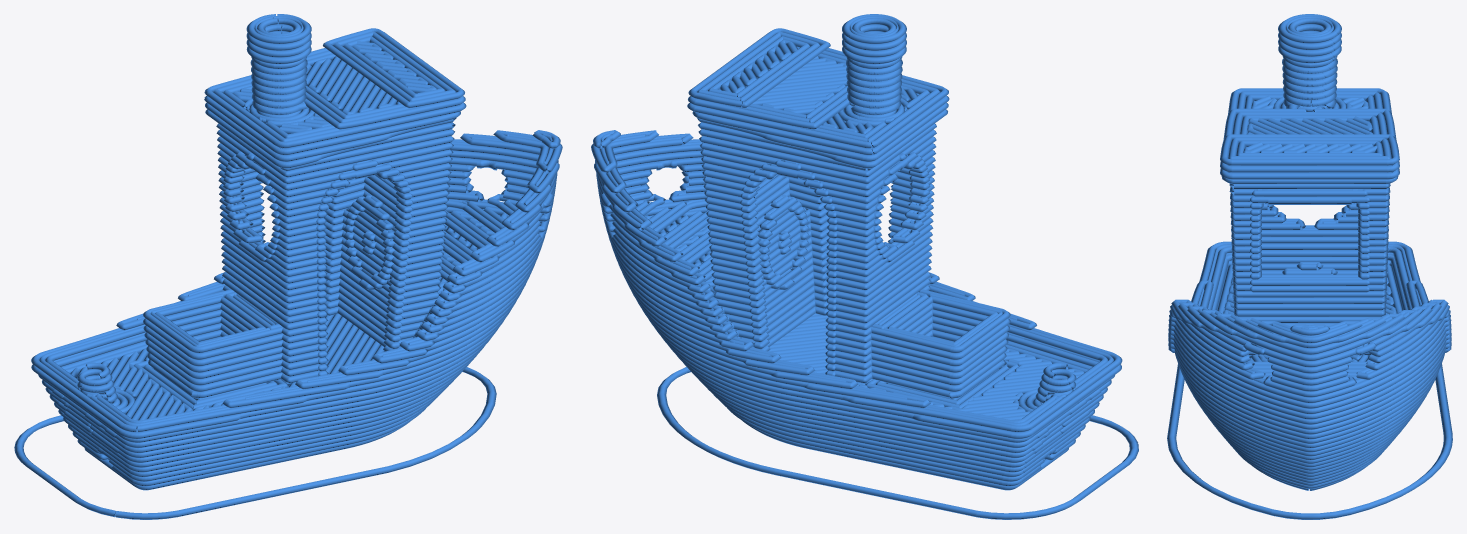
The model's file is benchyFirst3.glb.
3 views of the same model, side by side, from view 1: azimuth 30°, elevation 25°; view 2: azimuth 150°, elevation 25°; view 3: azimuth 270°, elevation 25° (orthographic).
Visible parts, largest first — view 1: 3DBenchy2; view 2: 3DBenchy2; view 3: 3DBenchy2.
Boxes of the visible parts, x1=… form: 3DBenchy2: x1=14, y1=14, x2=562, y2=519; 3DBenchy2: x1=591, y1=14, x2=1138, y2=519; 3DBenchy2: x1=1167, y1=14, x2=1452, y2=519.
Size of the model in its own units: 0.8511 by 0.6452 by 0.4205.
